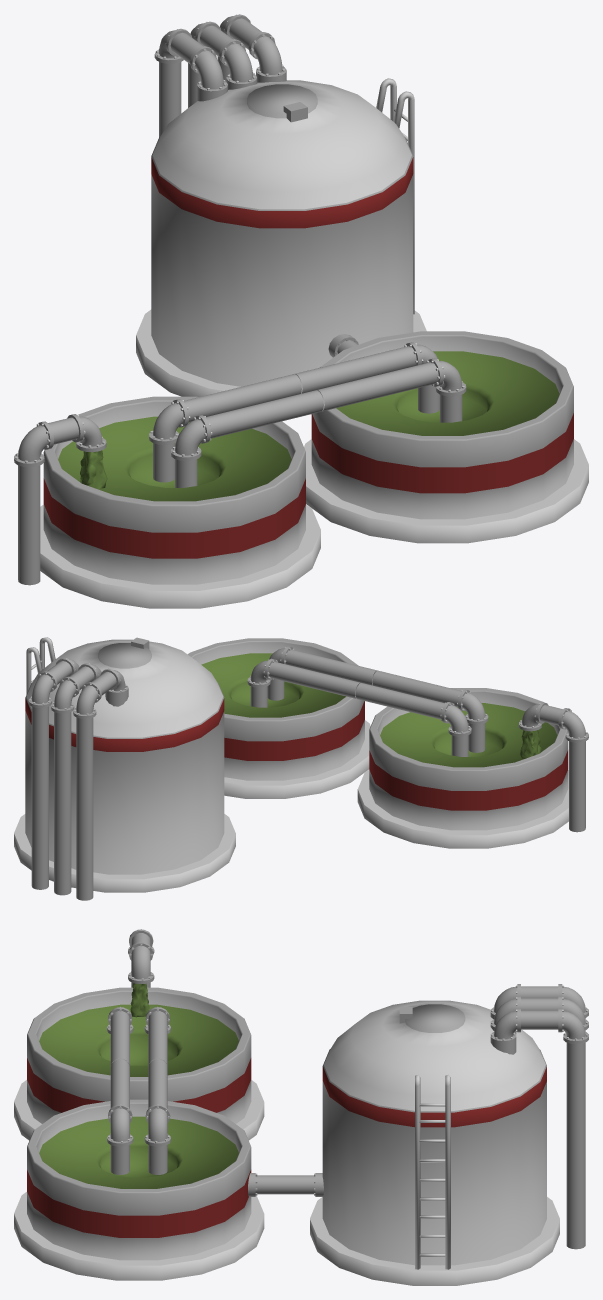
File: Clarifier.fbx
3 views of the same model, one above another, from view 1: azimuth 30°, elevation 25°; view 2: azimuth 150°, elevation 25°; view 3: azimuth 270°, elevation 25° (orthographic). The views are drawn at different scales.
Parts seen in each view (by area): view 1: Clarifier, Cylinder.008, Cylinder.010; view 2: Clarifier, Cylinder.010, Cylinder.008; view 3: Clarifier, Cylinder.010, Cylinder.008, Cylinder.007.
Part boxes in pixels (x1,y1,x2,y2): Clarifier: (40, 78, 588, 608); Cylinder.008: (149, 342, 466, 487); Cylinder.010: (14, 14, 286, 585); Clarifier: (14, 637, 568, 892); Cylinder.010: (28, 658, 588, 900); Cylinder.008: (247, 646, 488, 756); Clarifier: (14, 983, 559, 1285); Cylinder.010: (128, 929, 588, 1249); Cylinder.008: (107, 1007, 170, 1174); Cylinder.007: (248, 1173, 323, 1196).
Size of the model in its own units: 3913 by 1837 by 4048.
